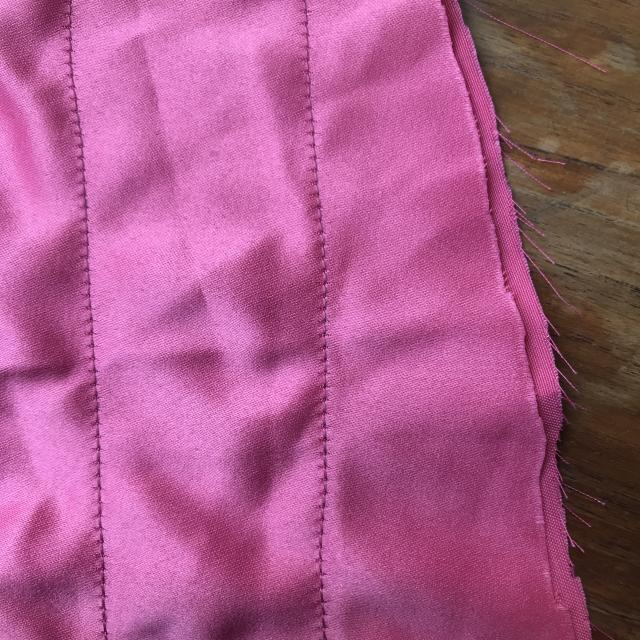good: (294, 163, 354, 390), (78, 233, 109, 383)
